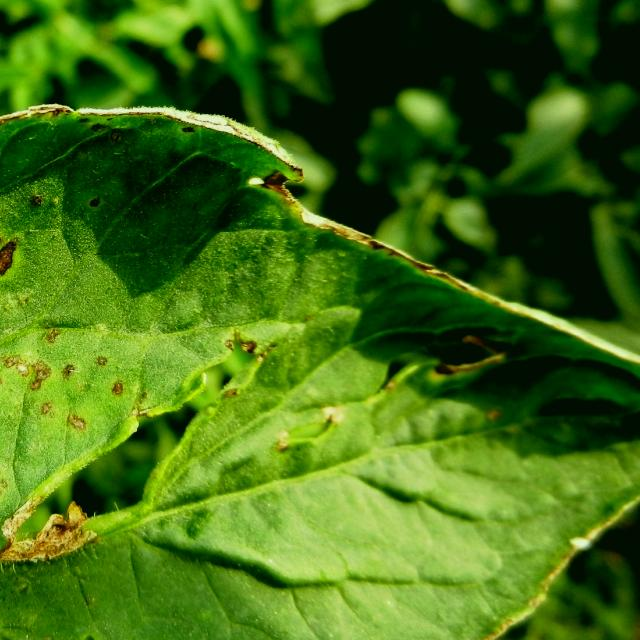Tomato leaf bacterial spot: (0, 74, 640, 640)
